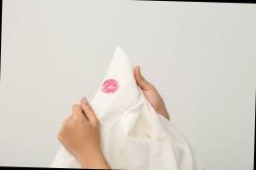lipstick: (101, 77, 123, 94)
